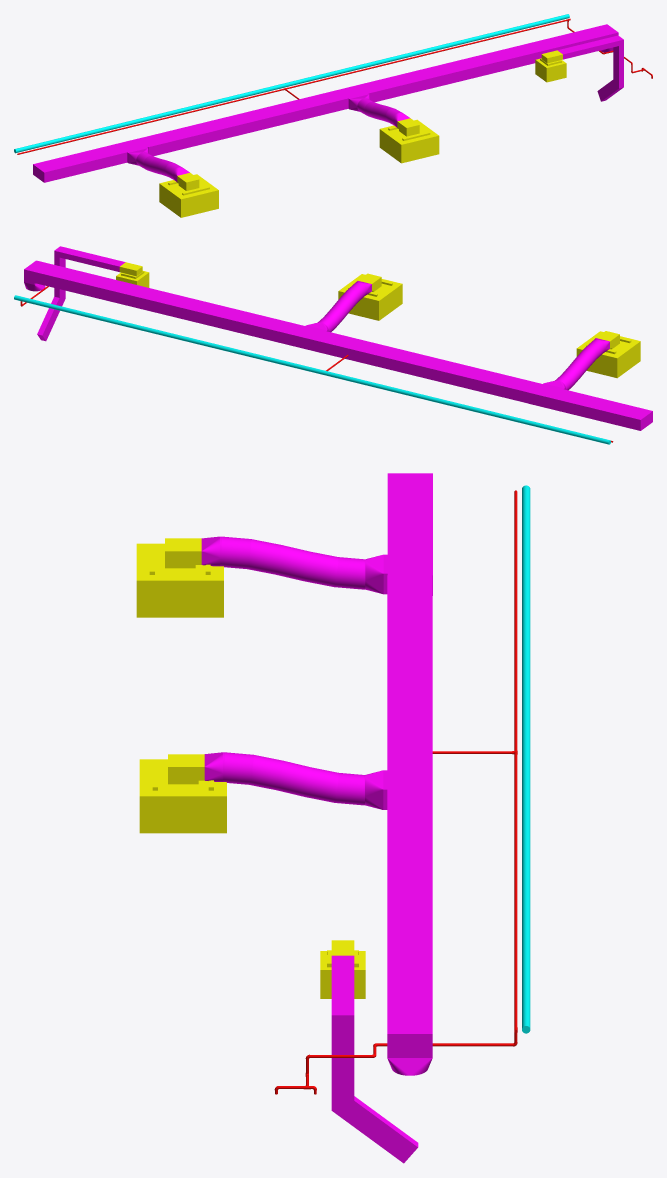
3 views of the same model, one above another, from view 1: azimuth 30°, elevation 25°; view 2: azimuth 150°, elevation 25°; view 3: azimuth 270°, elevation 25° (orthographic). The views are drawn at different scales.
Size of the model in its own units: 8.83 by 1.19 by 2.59.
